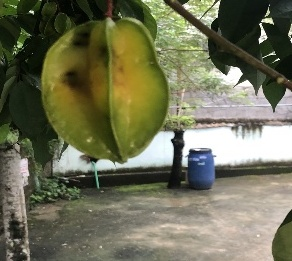Khe: (39, 16, 177, 166)
